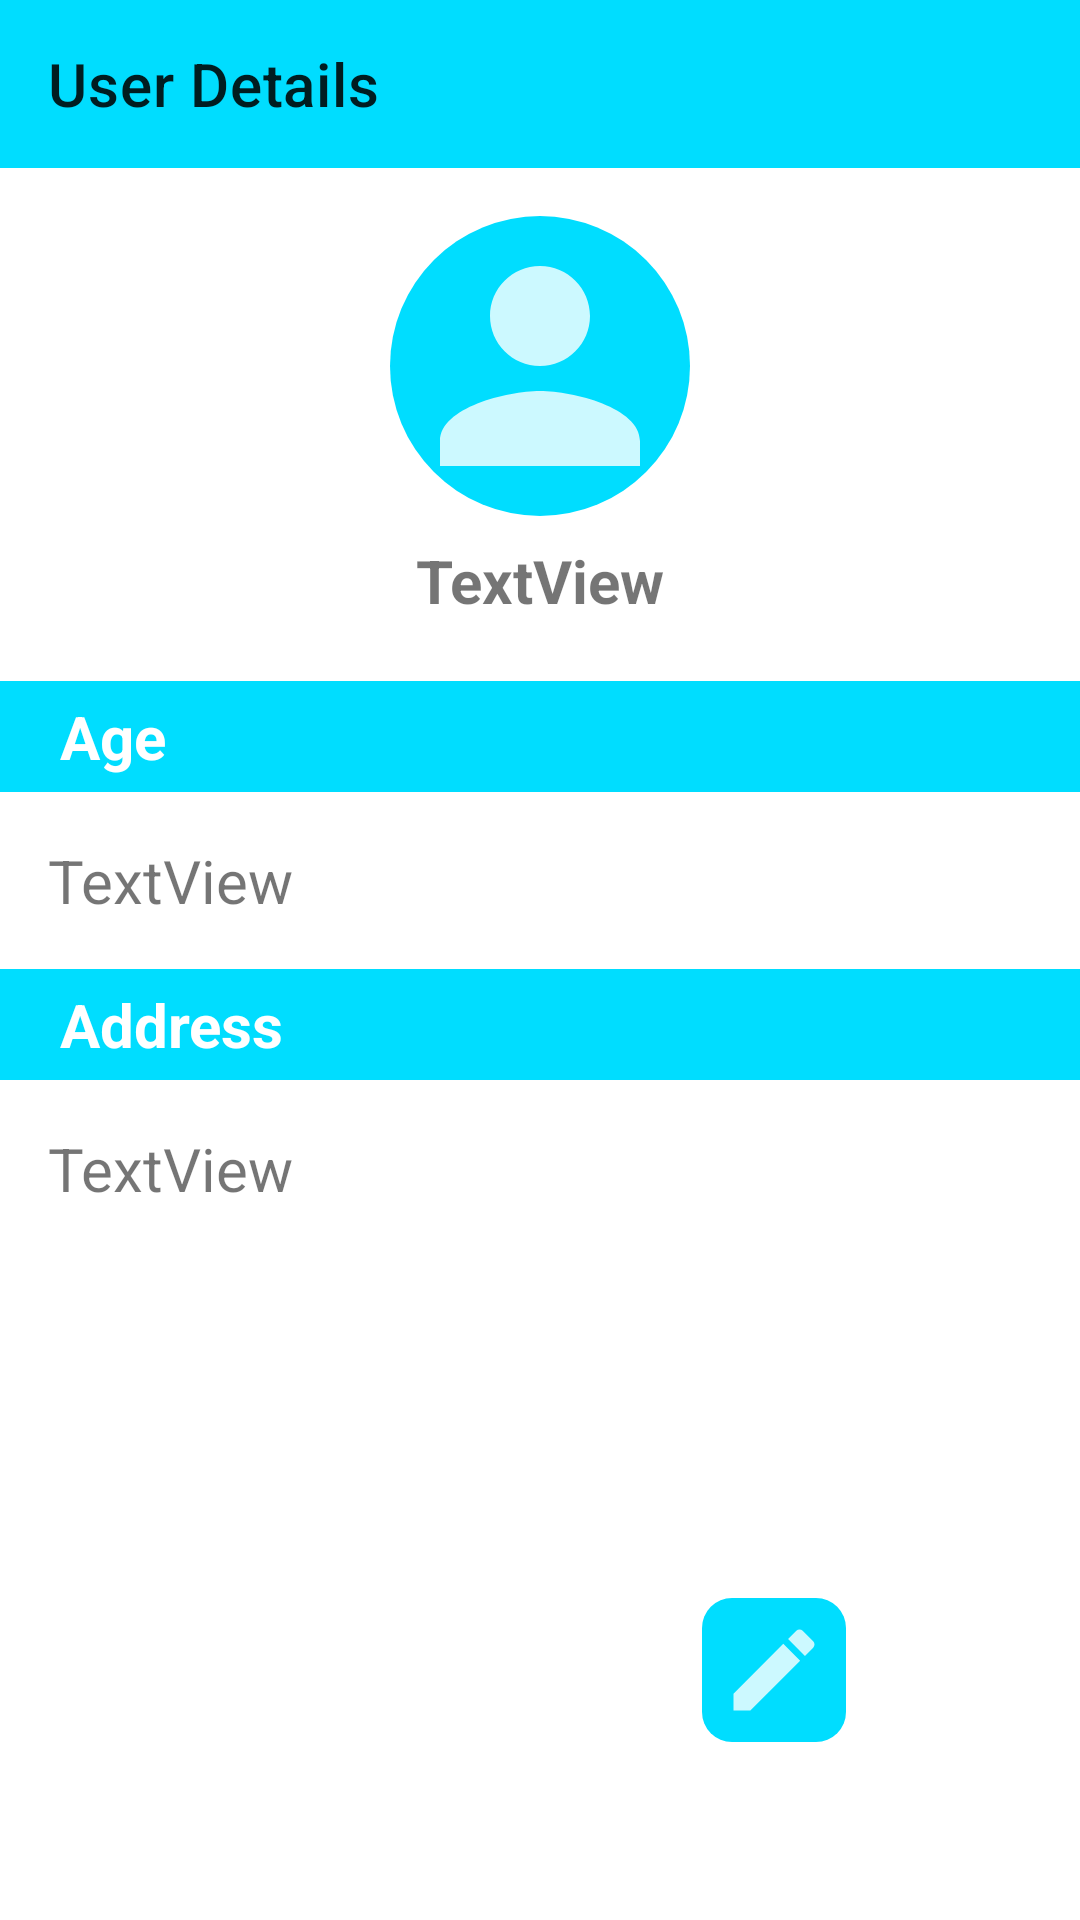

Locate icon controls on the screen. Image size 1080 x 1920, boxes as (x1, y1, x2, y2).
edit: (702, 1598, 846, 1742)
person: (390, 216, 690, 516)
